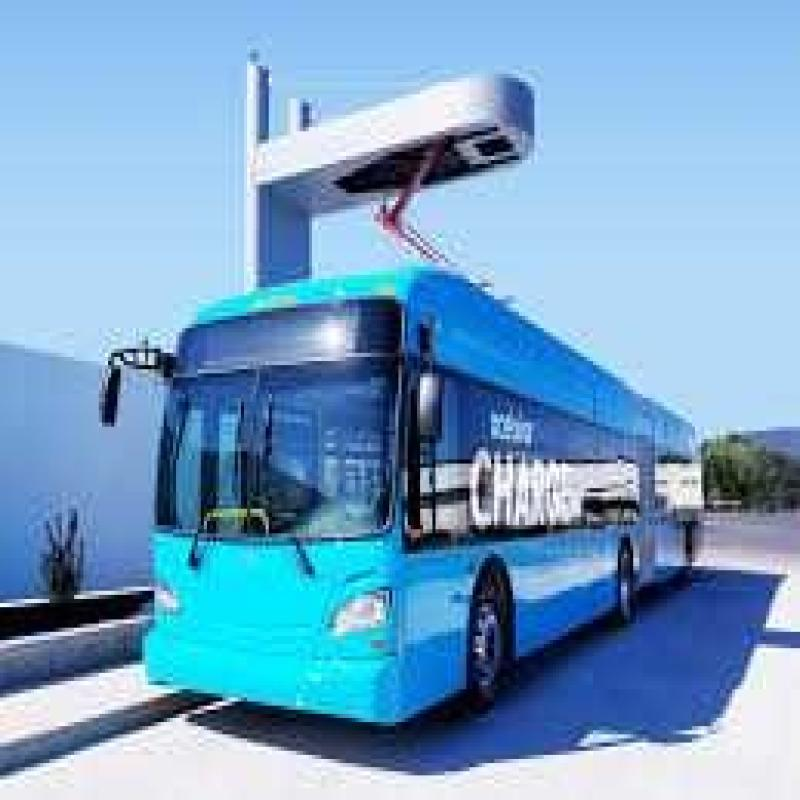bus: (125, 123, 726, 693)
